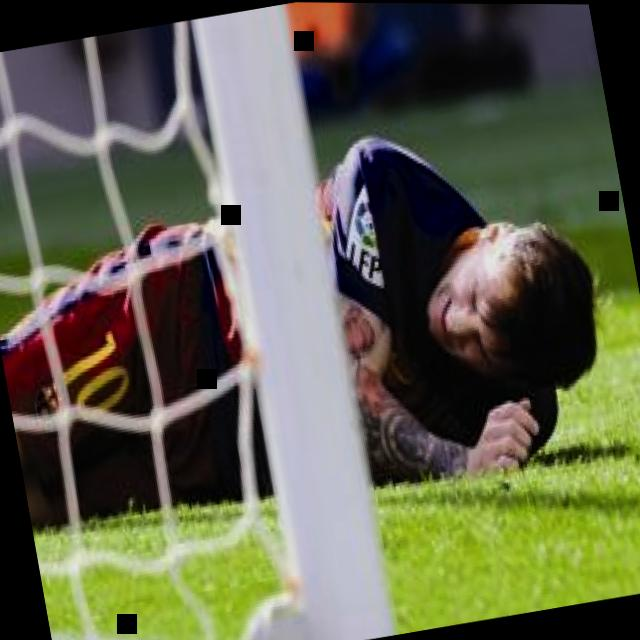Fall-Detected: (0, 12, 640, 624)
